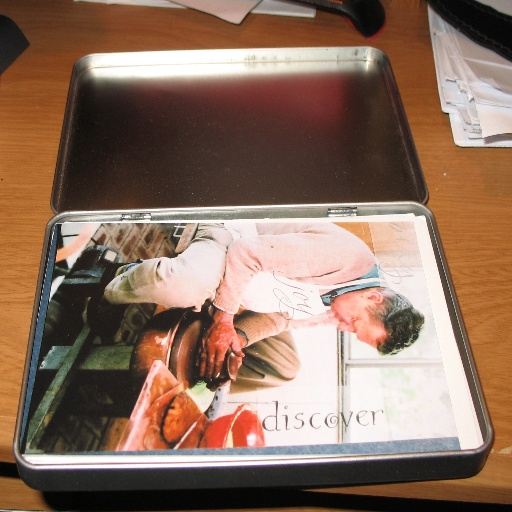hand: (195, 315, 246, 383)
